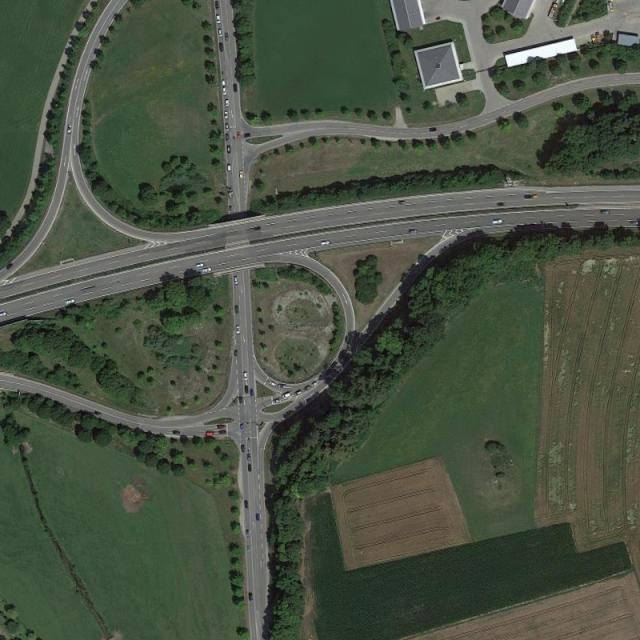vehicle: (548, 3, 559, 18), (64, 299, 75, 306), (282, 392, 291, 400), (493, 219, 503, 226), (219, 43, 225, 53), (303, 385, 311, 392), (6, 263, 14, 270), (234, 306, 240, 315), (216, 15, 222, 24), (245, 500, 250, 510), (196, 263, 206, 268), (202, 267, 212, 272), (234, 276, 239, 286), (218, 28, 223, 38), (273, 398, 281, 404), (95, 411, 103, 417), (524, 194, 532, 200), (321, 241, 330, 246), (249, 593, 254, 602), (409, 230, 418, 235), (238, 395, 243, 404), (295, 390, 302, 396), (239, 422, 244, 430), (173, 430, 181, 435), (269, 381, 277, 386), (246, 528, 250, 538), (68, 124, 72, 134), (228, 165, 232, 175), (244, 371, 248, 381), (602, 210, 610, 215), (215, 2, 220, 10), (226, 33, 230, 42), (222, 79, 226, 88), (312, 382, 319, 387), (254, 226, 261, 231), (218, 425, 226, 429), (219, 430, 227, 434), (241, 445, 245, 453), (247, 453, 251, 461), (248, 464, 252, 472), (278, 384, 286, 388), (226, 124, 230, 132), (226, 134, 230, 142), (227, 146, 231, 154), (225, 111, 229, 119), (398, 202, 406, 206), (222, 87, 226, 95), (234, 84, 238, 92), (228, 193, 233, 199), (1, 312, 7, 317), (244, 133, 250, 138), (630, 222, 640, 225), (207, 432, 214, 436), (256, 514, 260, 521), (250, 389, 254, 396), (239, 171, 243, 178), (226, 100, 230, 107), (230, 206, 233, 214), (246, 386, 249, 394), (237, 326, 240, 334), (234, 350, 238, 356), (247, 546, 250, 553), (237, 133, 241, 138), (498, 203, 504, 206)
